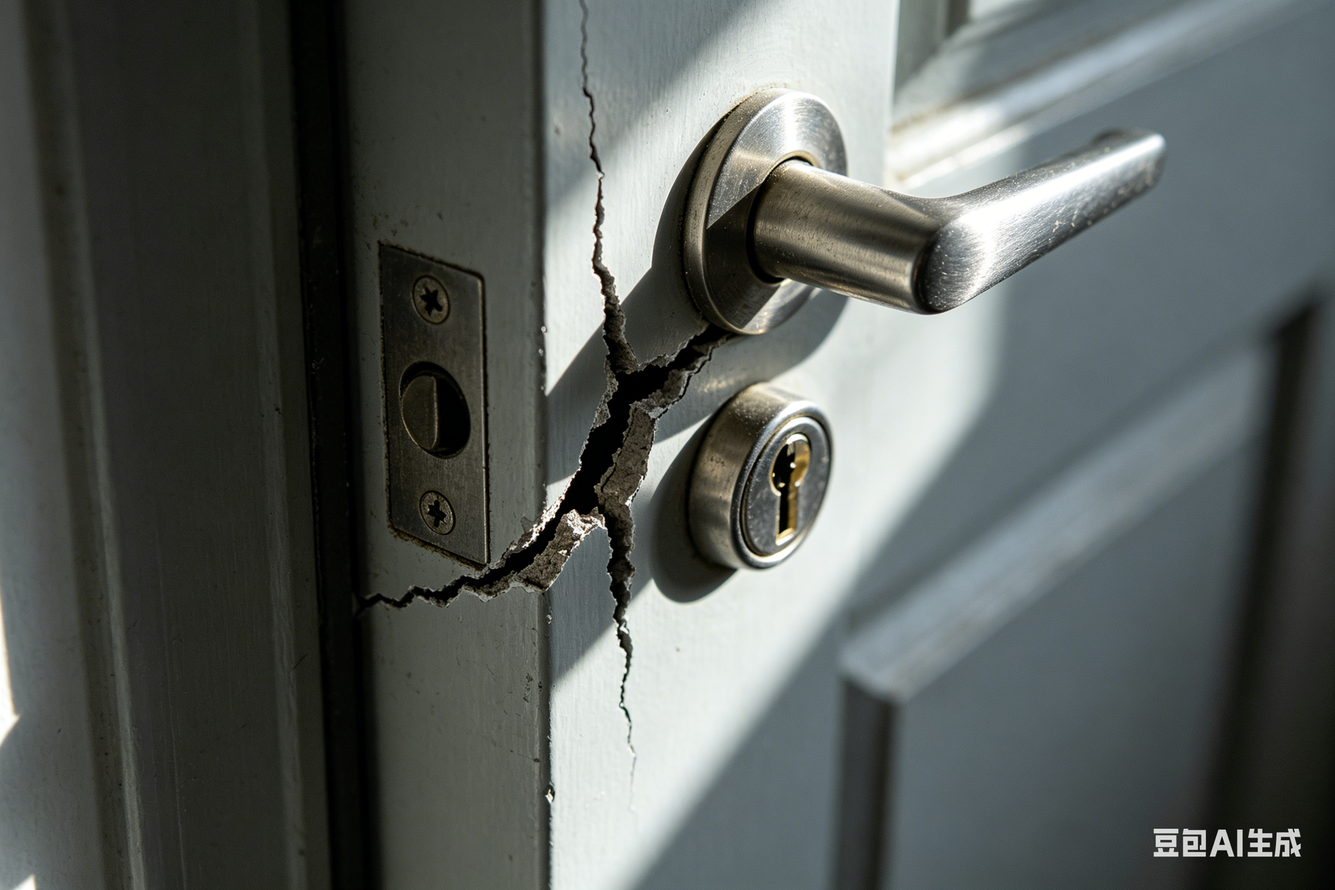BadLock: (545, 94, 833, 574)
